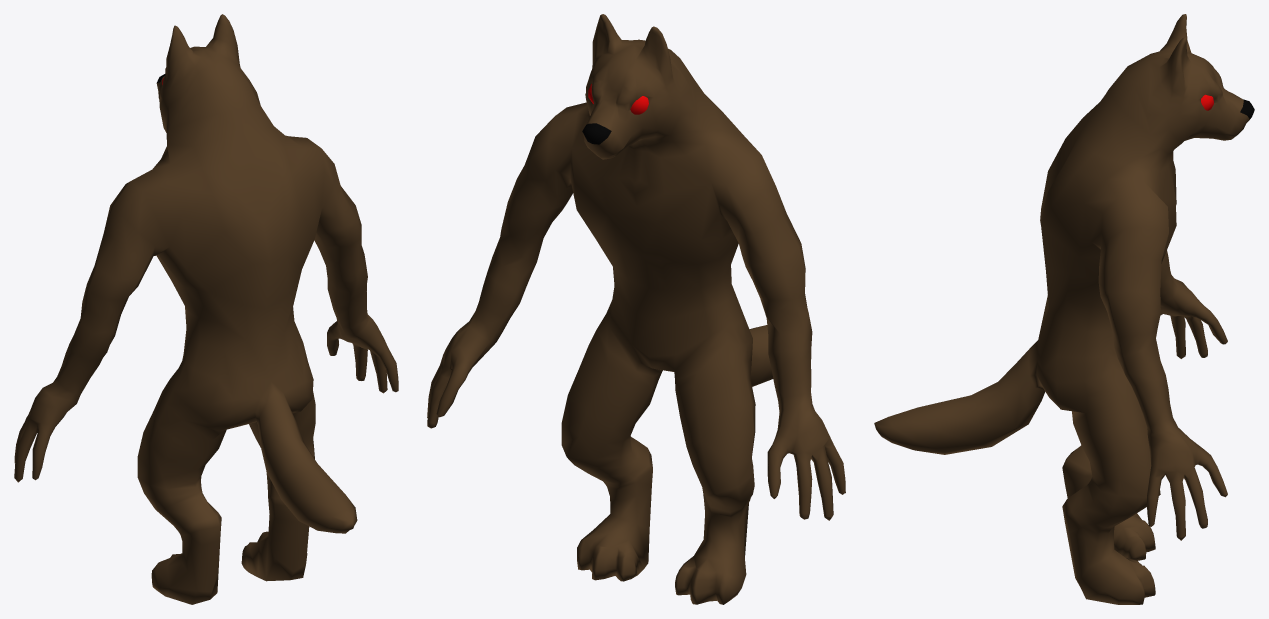
The model's file is wolf_02.fbx.
The picture shows the model from 3 angles, left to right: view 1: azimuth 30°, elevation 25°; view 2: azimuth 150°, elevation 25°; view 3: azimuth 270°, elevation 25°; orthographic projection. The views are drawn at different scales.
Visible parts, largest first — view 1: Wolf; view 2: Wolf; view 3: Wolf.
Boxes of the visible parts, bbox=[...] form: Wolf: bbox=[14, 14, 398, 604]; Wolf: bbox=[427, 14, 845, 604]; Wolf: bbox=[874, 14, 1254, 604].
Bounding box in the file's own units: 143 × 197 × 125.
